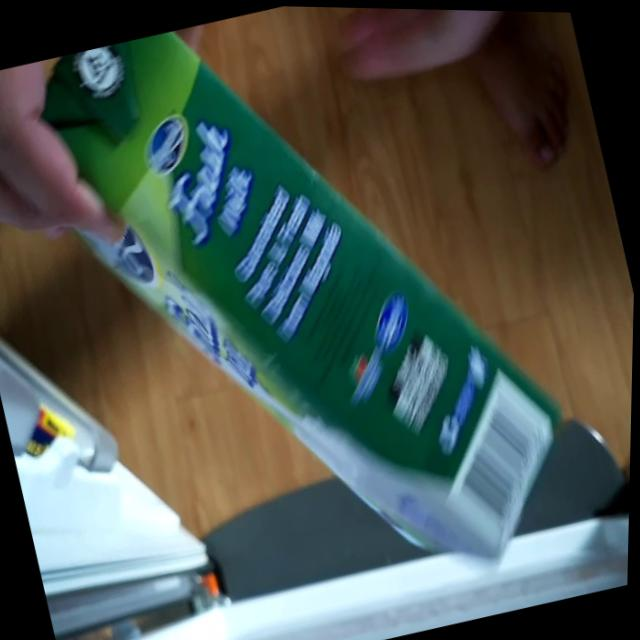milk: (19, 1, 600, 639)
